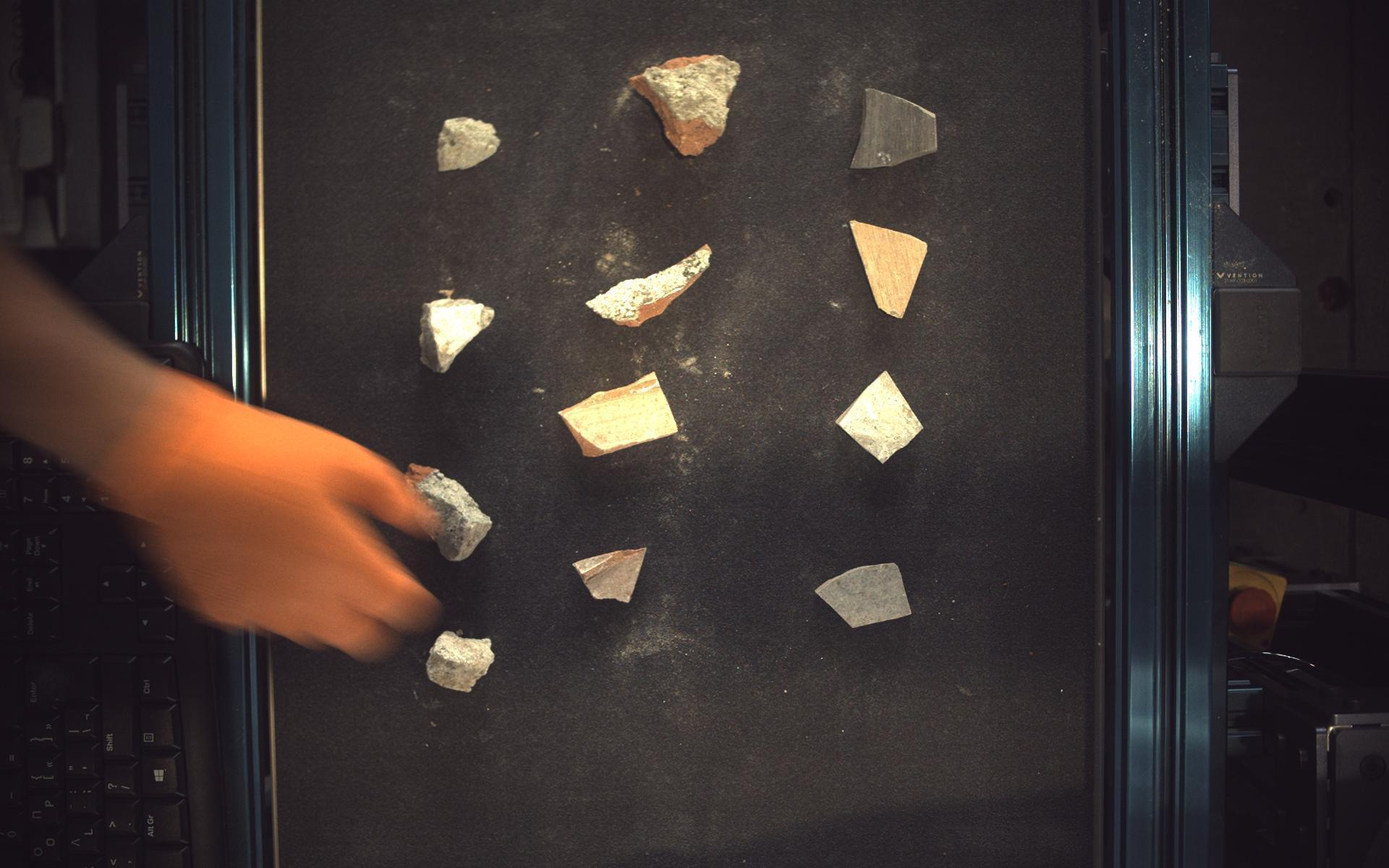brick: (630, 54, 742, 155), (588, 244, 713, 326), (560, 372, 679, 457), (574, 548, 647, 603)
concrete: (404, 464, 492, 562), (420, 296, 495, 373), (426, 632, 495, 693), (437, 116, 501, 171)
tile: (838, 371, 925, 464), (851, 220, 929, 318), (852, 87, 939, 168), (817, 563, 913, 629)
